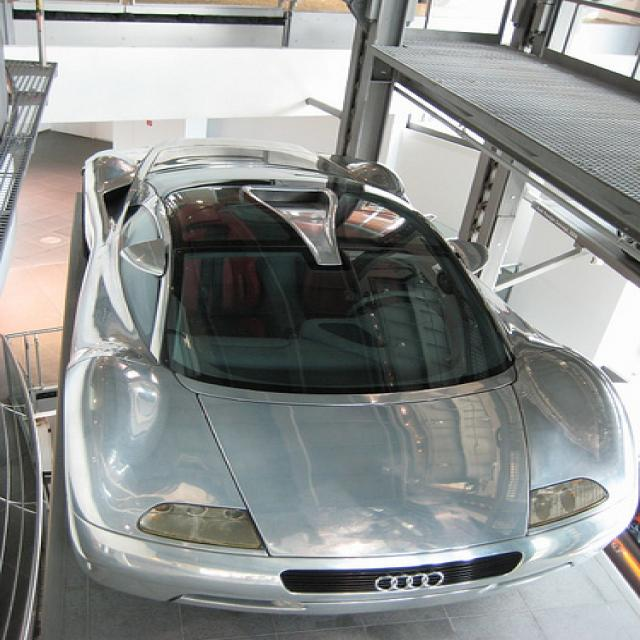Car: (56, 126, 613, 614)
